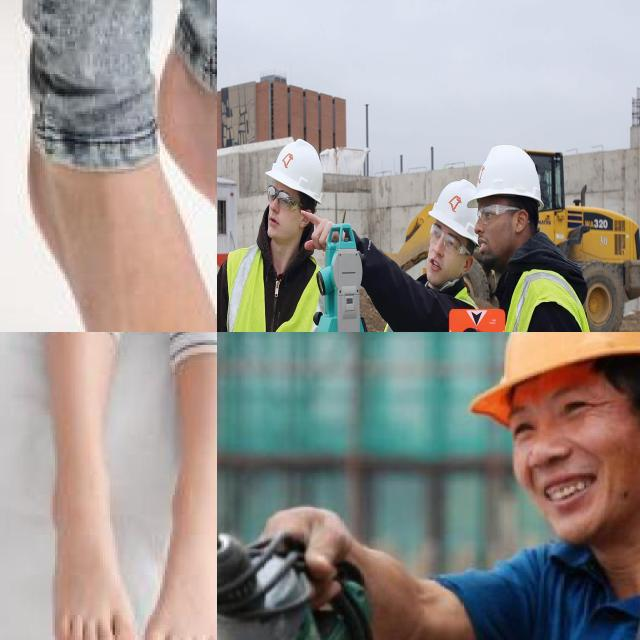Barefoots: (19, 83, 217, 332), (47, 463, 147, 640), (138, 473, 217, 640)
No_Glasses: (503, 381, 640, 443)
face_nomask: (513, 431, 640, 545), (462, 204, 517, 265), (419, 222, 466, 289), (261, 180, 303, 248)
glasses: (426, 222, 464, 257), (263, 181, 300, 213), (475, 200, 504, 227)
hand_noglove: (264, 511, 353, 605), (304, 210, 342, 257)
head_helmet: (470, 332, 640, 425), (470, 137, 549, 209), (264, 135, 332, 201), (430, 176, 483, 246)
person: (470, 126, 629, 332), (217, 120, 328, 332), (366, 154, 467, 332)
vest: (367, 258, 478, 332), (469, 275, 613, 332), (219, 252, 319, 332)
